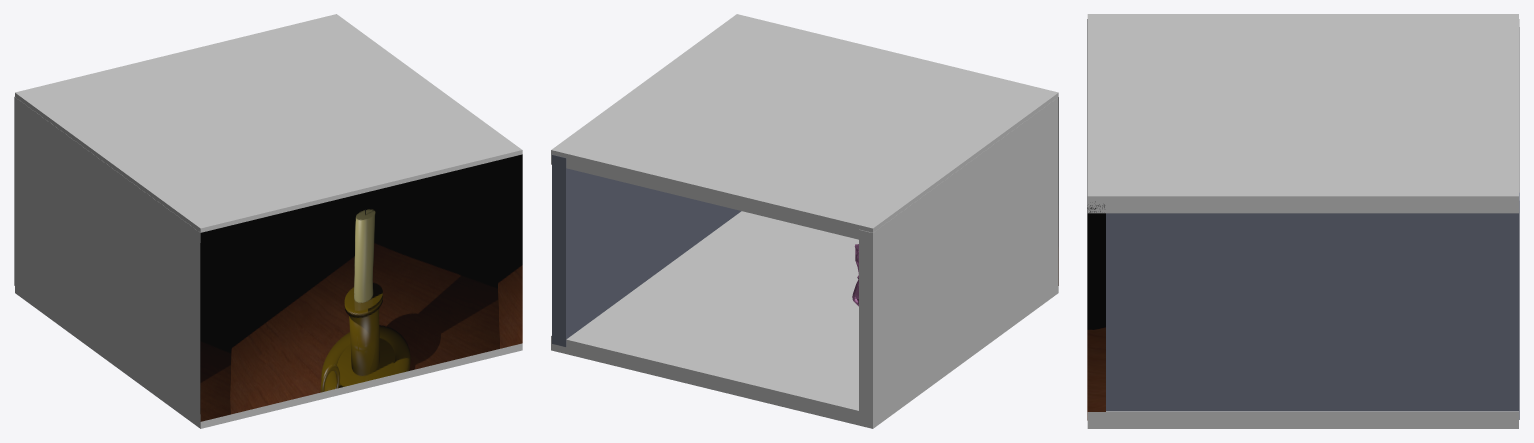
Rendered from monkeybox.obj.
3 views of the same model, side by side, from view 1: azimuth 30°, elevation 25°; view 2: azimuth 150°, elevation 25°; view 3: azimuth 270°, elevation 25° (orthographic). The views are drawn at different scales.
Parts seen in each view (by area): view 1: Cube.002_Cube.003, Cube.001_Cube.002, Cube.004_Cube.005, Cube_Cube.001; view 2: Cube.001_Cube.002, Cube_Cube.001, Cube.004_Cube.005, Cube.003_Cube.004; view 3: Cube.001_Cube.002, Cube.003_Cube.004, Cube_Cube.001, Cube.002_Cube.003.
Boxes of the visible parts, x1,y1,x2,y2 form: Cube.002_Cube.003: (200, 154, 522, 421); Cube.001_Cube.002: (15, 14, 522, 242); Cube.004_Cube.005: (14, 96, 200, 421); Cube_Cube.001: (15, 286, 522, 428); Cube.001_Cube.002: (551, 14, 1058, 239); Cube_Cube.001: (551, 211, 1058, 428); Cube.004_Cube.005: (859, 97, 1058, 421); Cube.003_Cube.004: (552, 154, 741, 346); Cube.001_Cube.002: (1087, 14, 1518, 213); Cube.003_Cube.004: (1106, 192, 1519, 419); Cube_Cube.001: (1087, 411, 1518, 428); Cube.002_Cube.003: (1087, 19, 1105, 420).
Bounding box in the file's own units: 7.69 × 4.58 × 7.7.
Materials: 4 (1 with a texture image).
